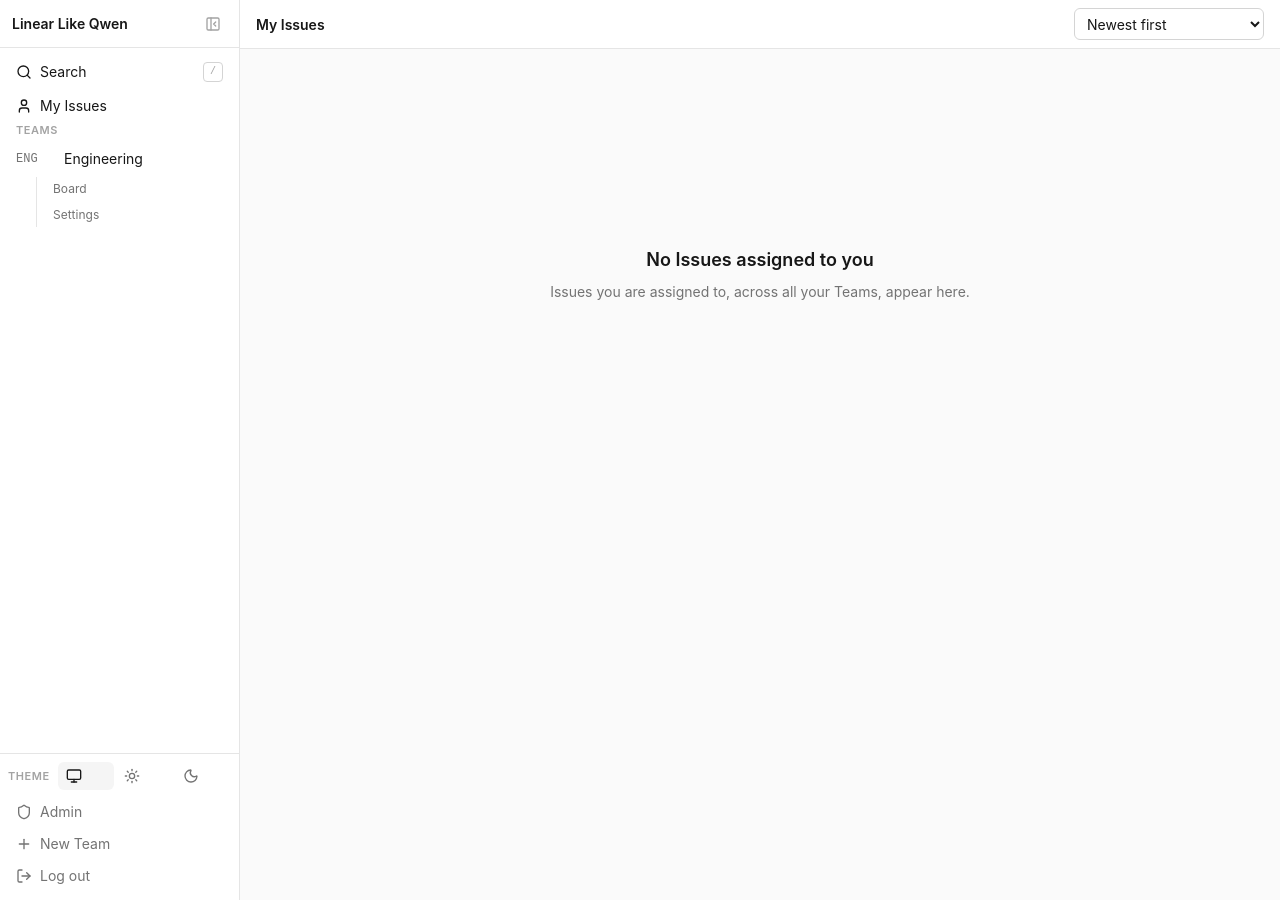
Scenario: SearchOverlay › shows the no-results state and closes on Esc
Expected: the heading "No Issues assigned to you" is shown, [646,246,874,274]
Step 1. Press /
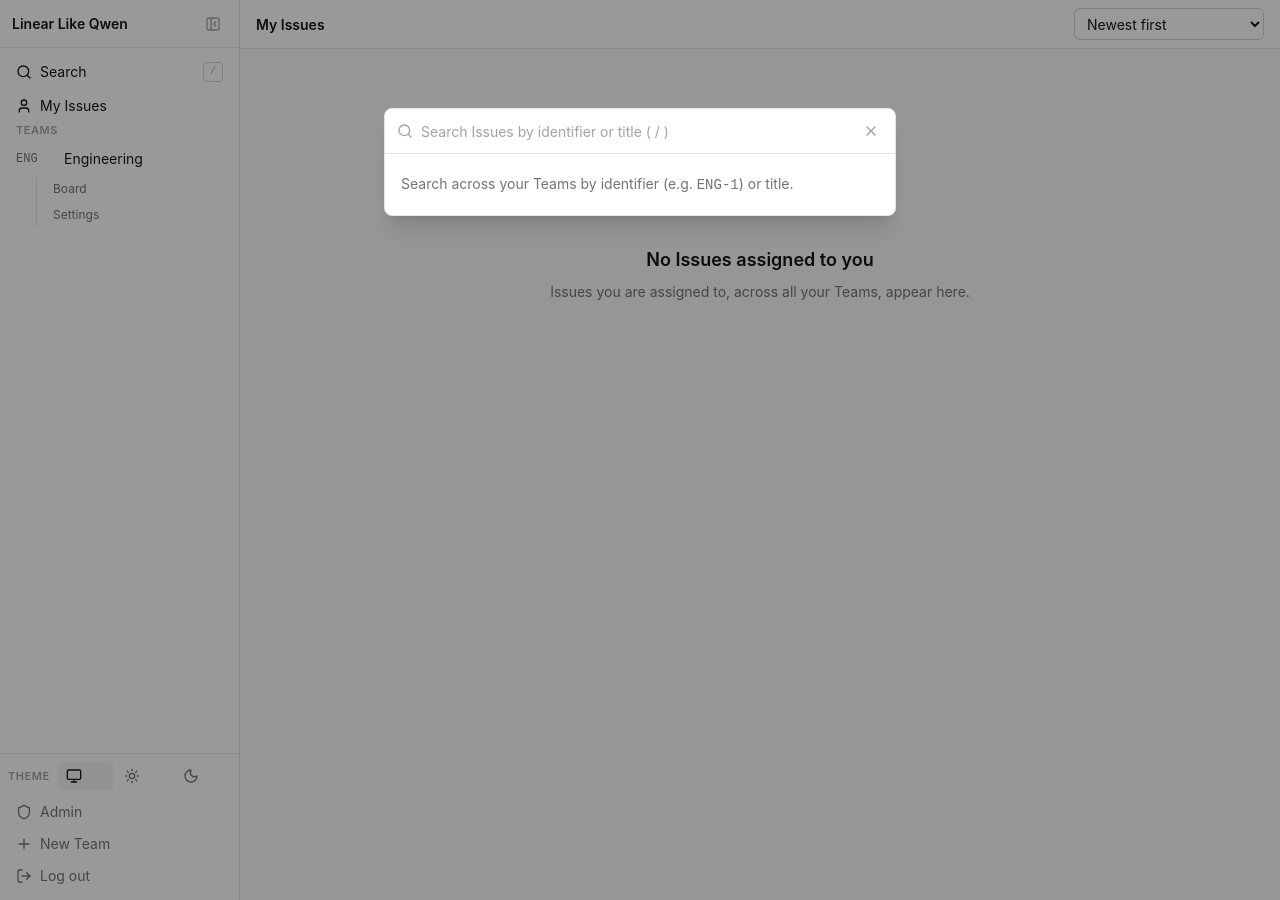
Step 2. Type "nothing" into the field with placeholder "Search Issues by identifier or title ( / )" → point(636, 131), box [421,109,851,153]
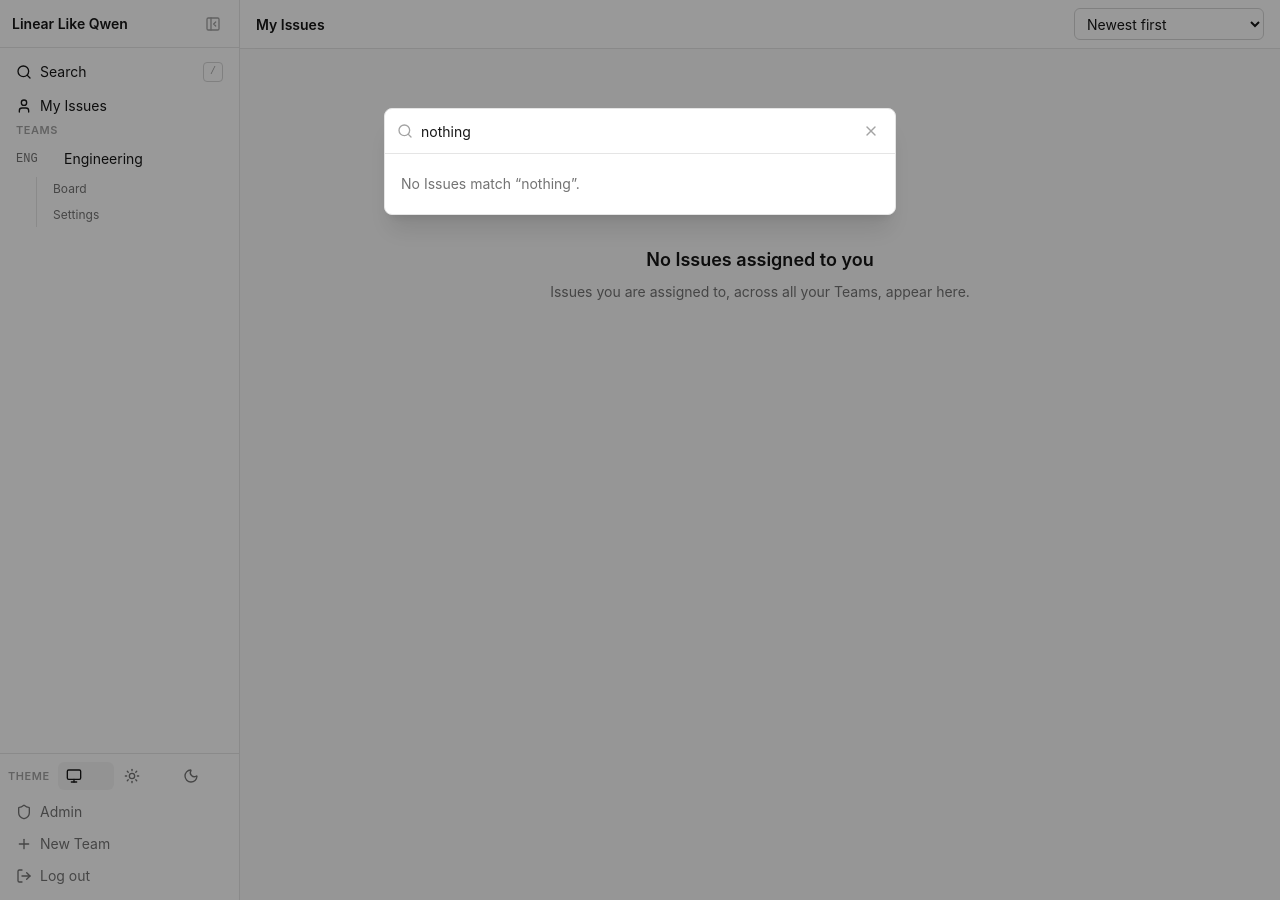
Expected: the text "No Issues match “nothing”." is shown, [401,175,580,192]
Step 3. Press Escape in the field with placeholder "Search Issues by identifier or title ( / )", box [421,109,851,153]
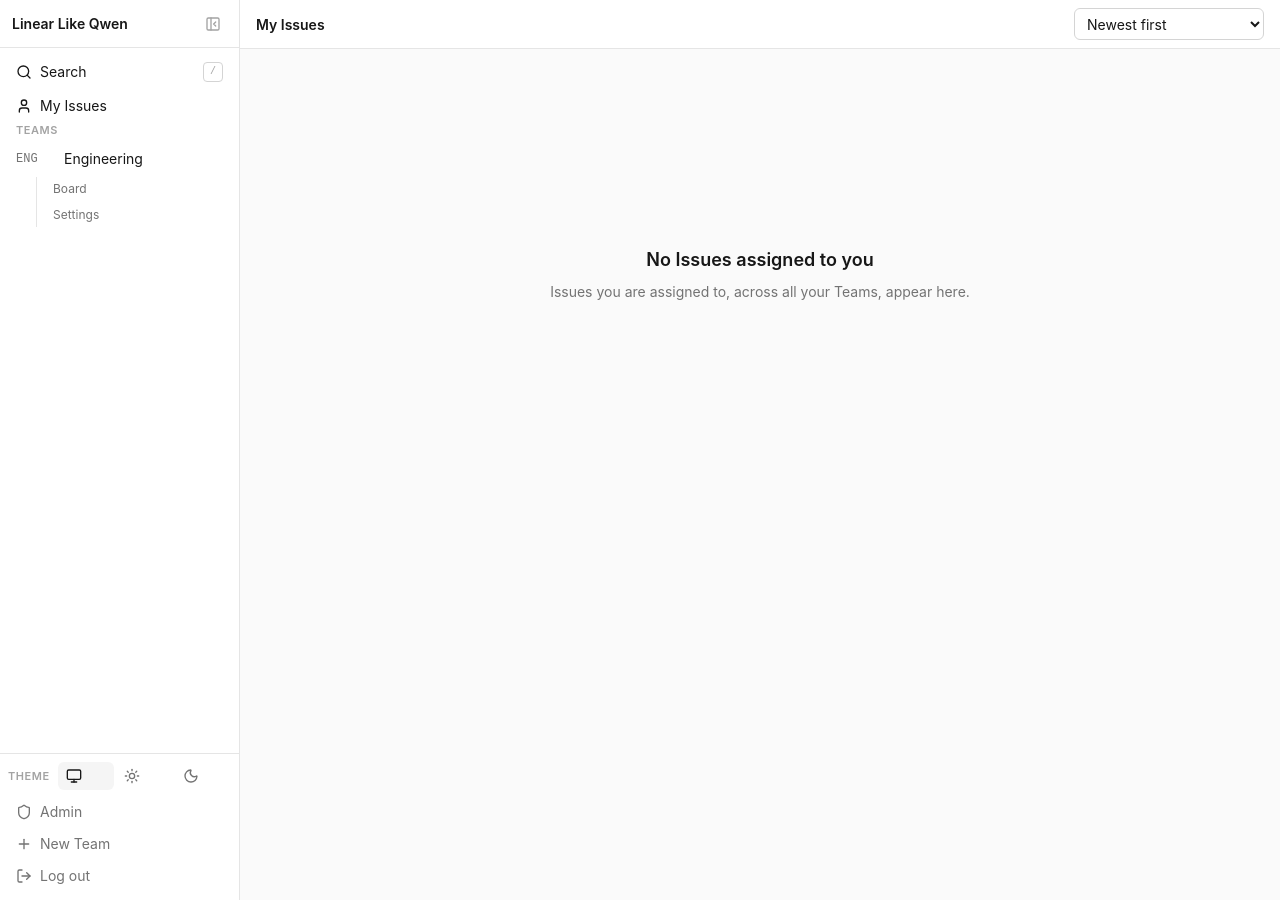
Expected: the dialog "No Issues match “nothing”." is gone
